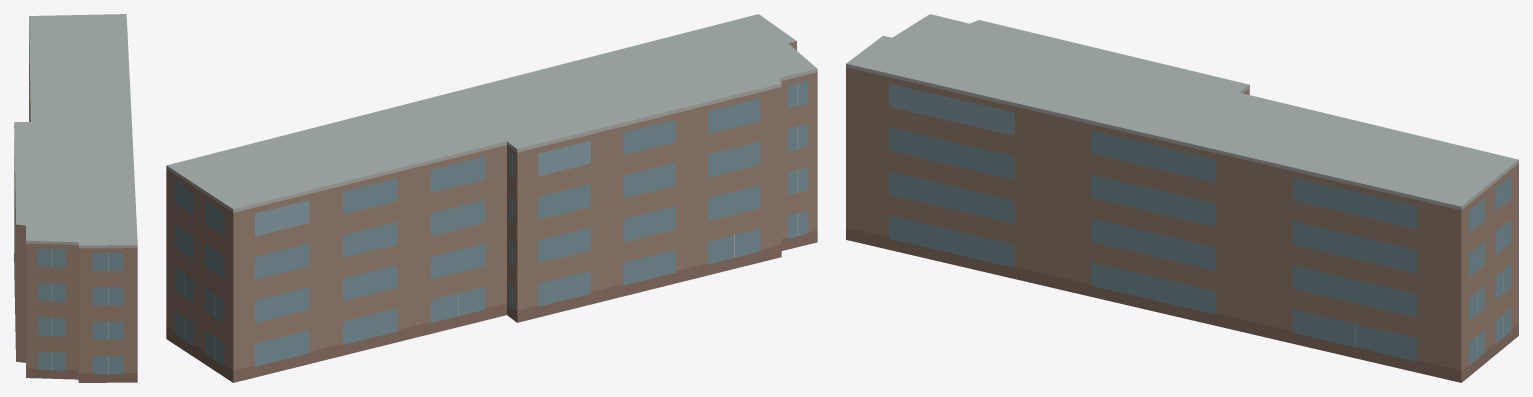
File: survey-upis-32998254.glb
The picture shows the model from 3 angles, left to right: view 1: azimuth 30°, elevation 25°; view 2: azimuth 150°, elevation 25°; view 3: azimuth 270°, elevation 25°; orthographic projection. The views are drawn at different scales.
Visible parts, largest first — view 1: survey-upis-32998254.tmp; view 2: survey-upis-32998254.tmp; view 3: survey-upis-32998254.tmp.
Boxes of the visible parts, <box> form: survey-upis-32998254.tmp: <box>14,14,137,382</box>; survey-upis-32998254.tmp: <box>166,14,817,382</box>; survey-upis-32998254.tmp: <box>846,14,1518,382</box>.
Size of the model in its own units: 28.28 by 12.05 by 41.71.
